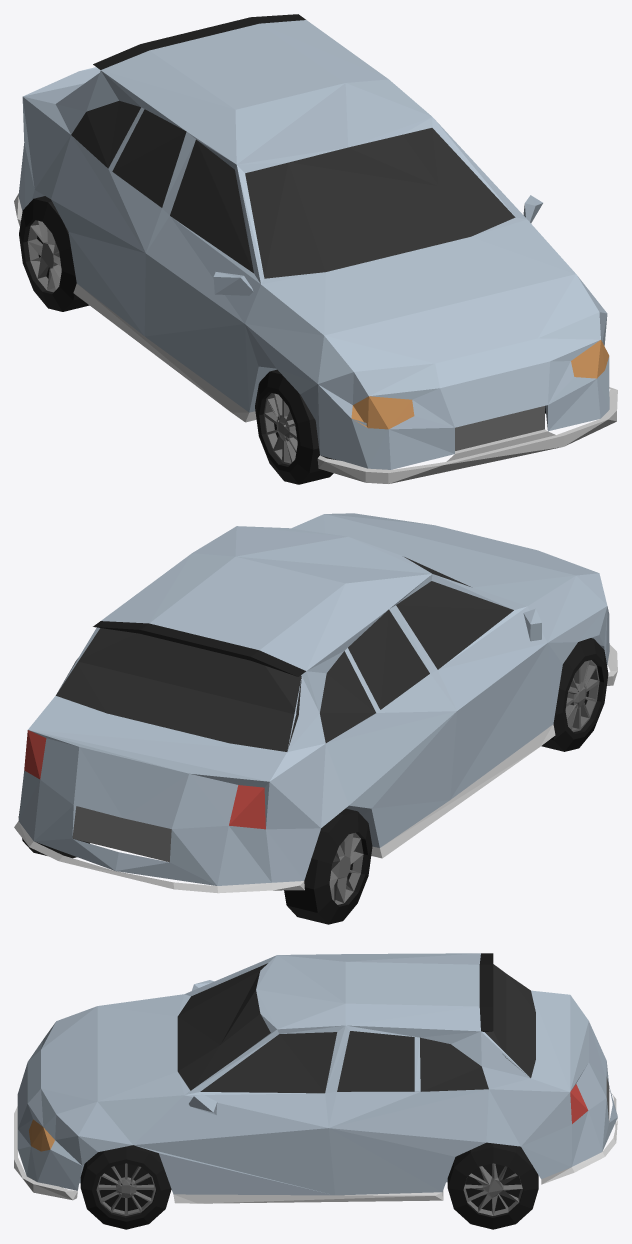
The model's file is hatchback.glb.
The picture shows the model from 3 angles, top to bottom: view 1: azimuth 30°, elevation 25°; view 2: azimuth 150°, elevation 25°; view 3: azimuth 270°, elevation 25°; orthographic projection. The views are drawn at different scales.
Parts seen in each view (by area): view 1: NormalCar2_Cube.002, NormalCar2_FrontRightWheel_Cylinder.016, NormalCar2_BackWheels_Cylinder.003; view 2: NormalCar2_Cube.002, NormalCar2_BackWheels_Cylinder.003, NormalCar2_FrontRightWheel_Cylinder.016; view 3: NormalCar2_Cube.002, NormalCar2_BackWheels_Cylinder.003, NormalCar2_FrontLeftWheel_Cylinder.015.
Part boxes in pixels (x1,y1,x2,y2): NormalCar2_Cube.002: (14,14,617,483); NormalCar2_FrontRightWheel_Cylinder.016: (255,369,335,484); NormalCar2_BackWheels_Cylinder.003: (19,196,89,311); NormalCar2_Cube.002: (14,513,617,893); NormalCar2_BackWheels_Cylinder.003: (18,808,372,924); NormalCar2_FrontRightWheel_Cylinder.016: (541,638,608,751); NormalCar2_Cube.002: (14,953,617,1203); NormalCar2_BackWheels_Cylinder.003: (447,1142,538,1229); NormalCar2_FrontLeftWheel_Cylinder.015: (80,1145,171,1229).
Size of the model in its own units: 1.62 by 1.15 by 3.28.
